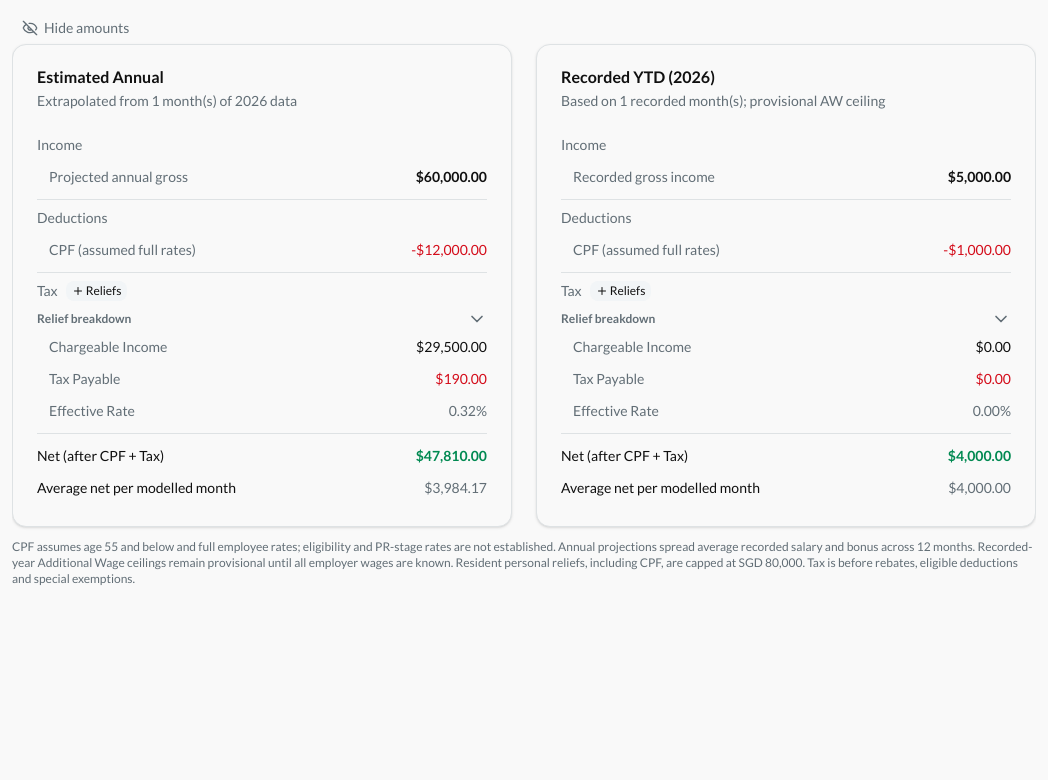
it: conceals selected monetary relief tiers and counts while preserving fixed assumptions
Click the button "Relief breakdown" below "-$12,000.00" at [84, 318], box [37, 309, 487, 329]
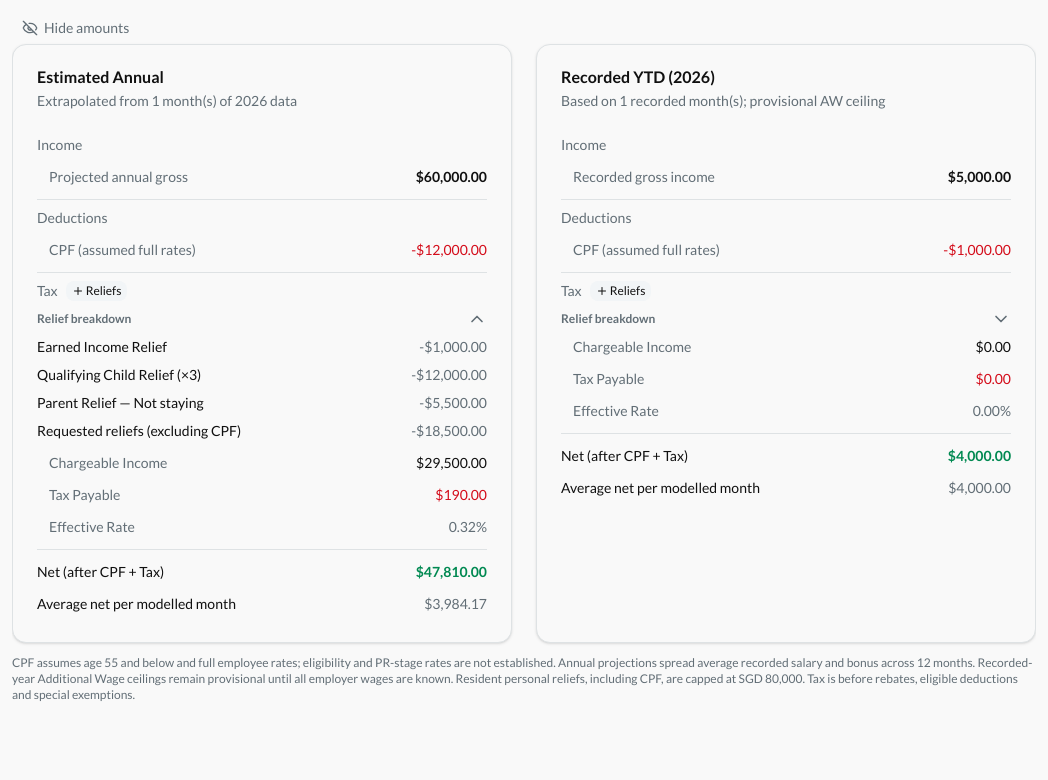
Click the button "Relief breakdown" below "Recorded gross income" at [608, 318], box [561, 309, 1011, 329]
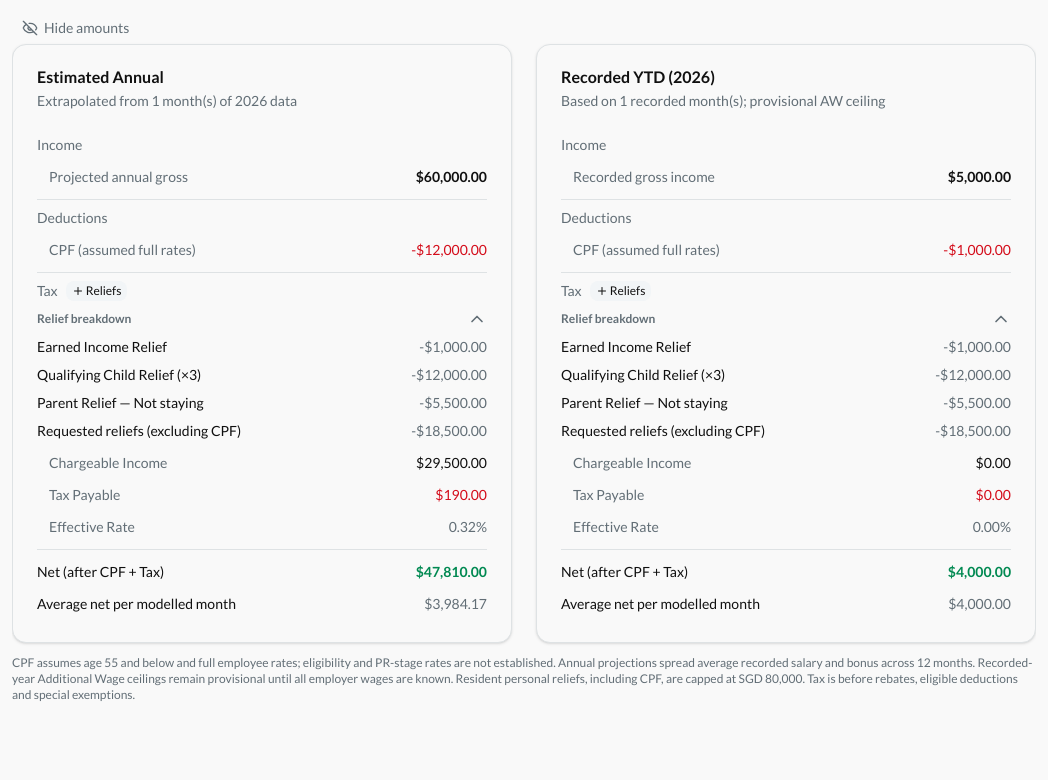
Expected: the text "×3" is shown, [37, 366, 201, 383]
Expected: the text "Parent Relief — Not staying" is shown 2 times, [37, 393, 204, 413]; [561, 393, 728, 413]
Click the button "Hide amounts" at [76, 28], box [12, 12, 139, 44]
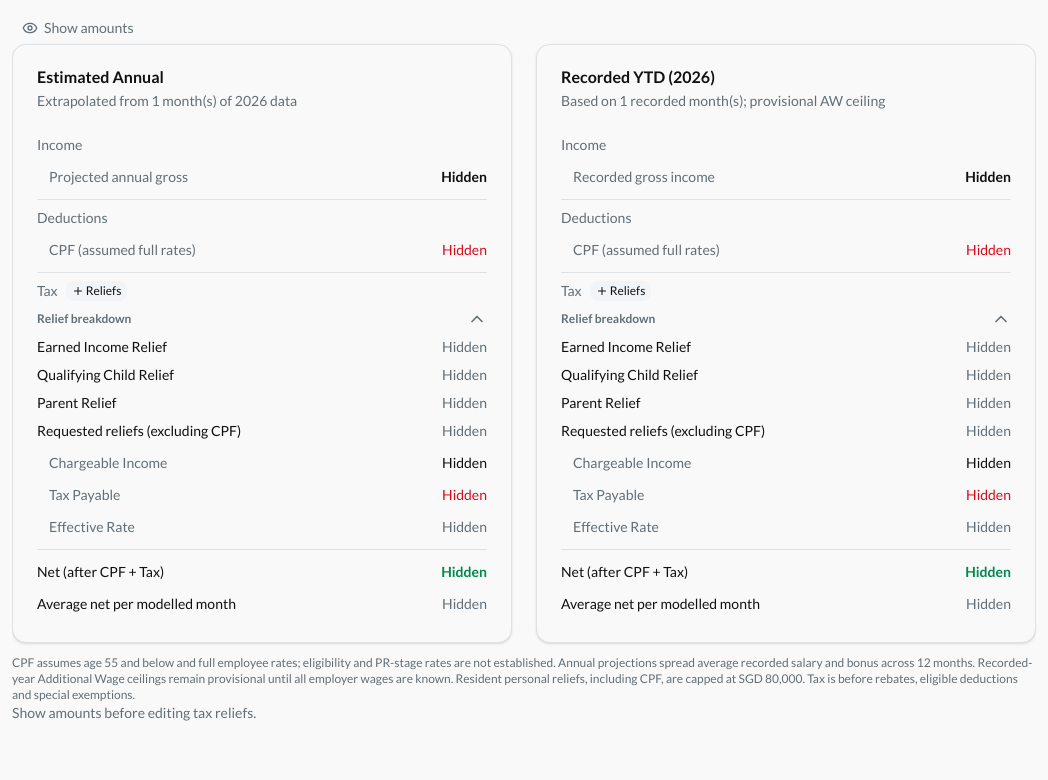
Expected: the text "Parent Relief" is shown 2 times, [37, 393, 117, 413]; [561, 393, 641, 413]
Expected: the text "Not staying" is gone
Expected: the text "×3" is gone
Click the button "Show amounts" at [78, 28], box [12, 12, 144, 44]
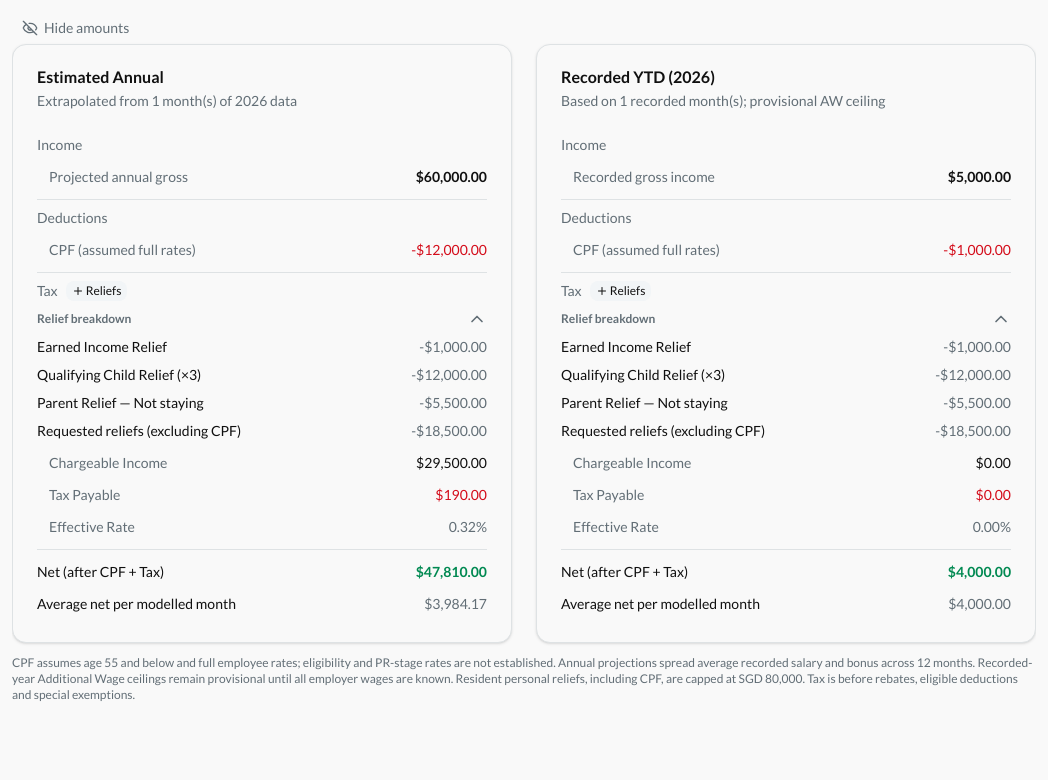
Expected: the text "Parent Relief — Not staying" is shown 2 times, [37, 393, 204, 413]; [561, 393, 728, 413]
Expected: the text "×3" is shown, [37, 366, 201, 383]
